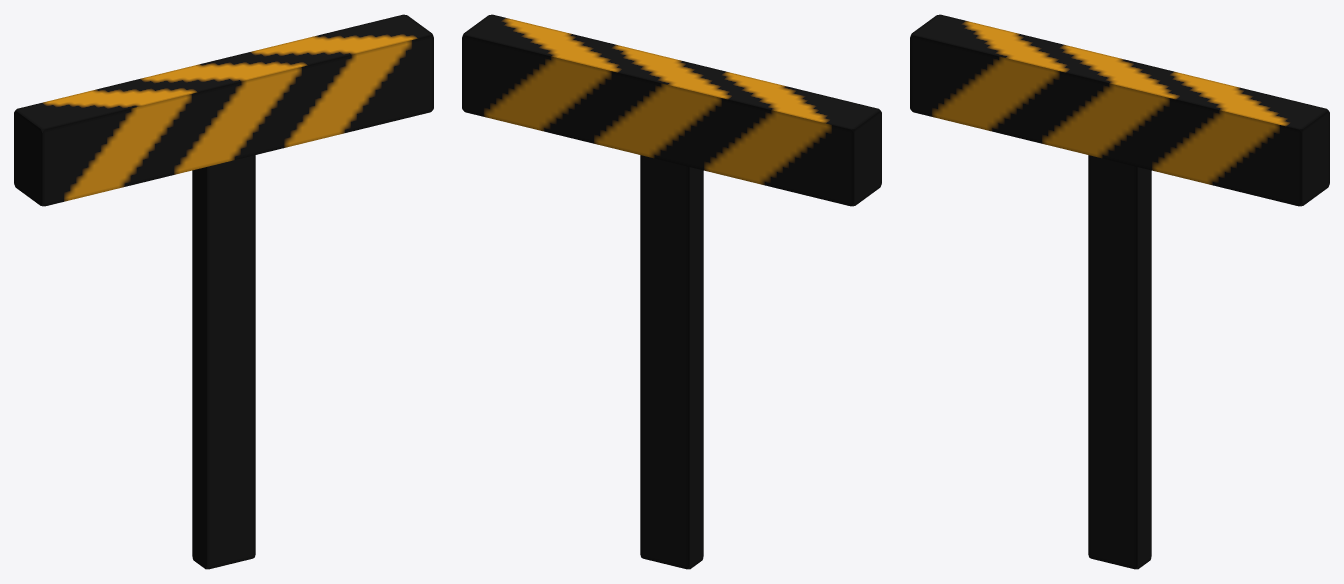
Rendered from Barrier.obj.
The picture shows the model from 3 angles, left to right: view 1: azimuth 30°, elevation 25°; view 2: azimuth 150°, elevation 25°; view 3: azimuth 330°, elevation 25°; orthographic projection.
Visible parts, largest first — view 1: cuboid; view 2: cuboid; view 3: cuboid.
Boxes of the visible parts, x1,y1,x2,y2 form: cuboid: (14,14,433,569); cuboid: (462,14,881,569); cuboid: (910,14,1329,569).
Size of the model in its own units: 1 by 1.19 by 0.125.
Materials: 1 (1 with a texture image).
